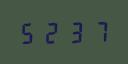five: (18, 20, 40, 44)
seven: (87, 19, 109, 43)
three: (64, 19, 86, 43)
two: (41, 20, 63, 44)
